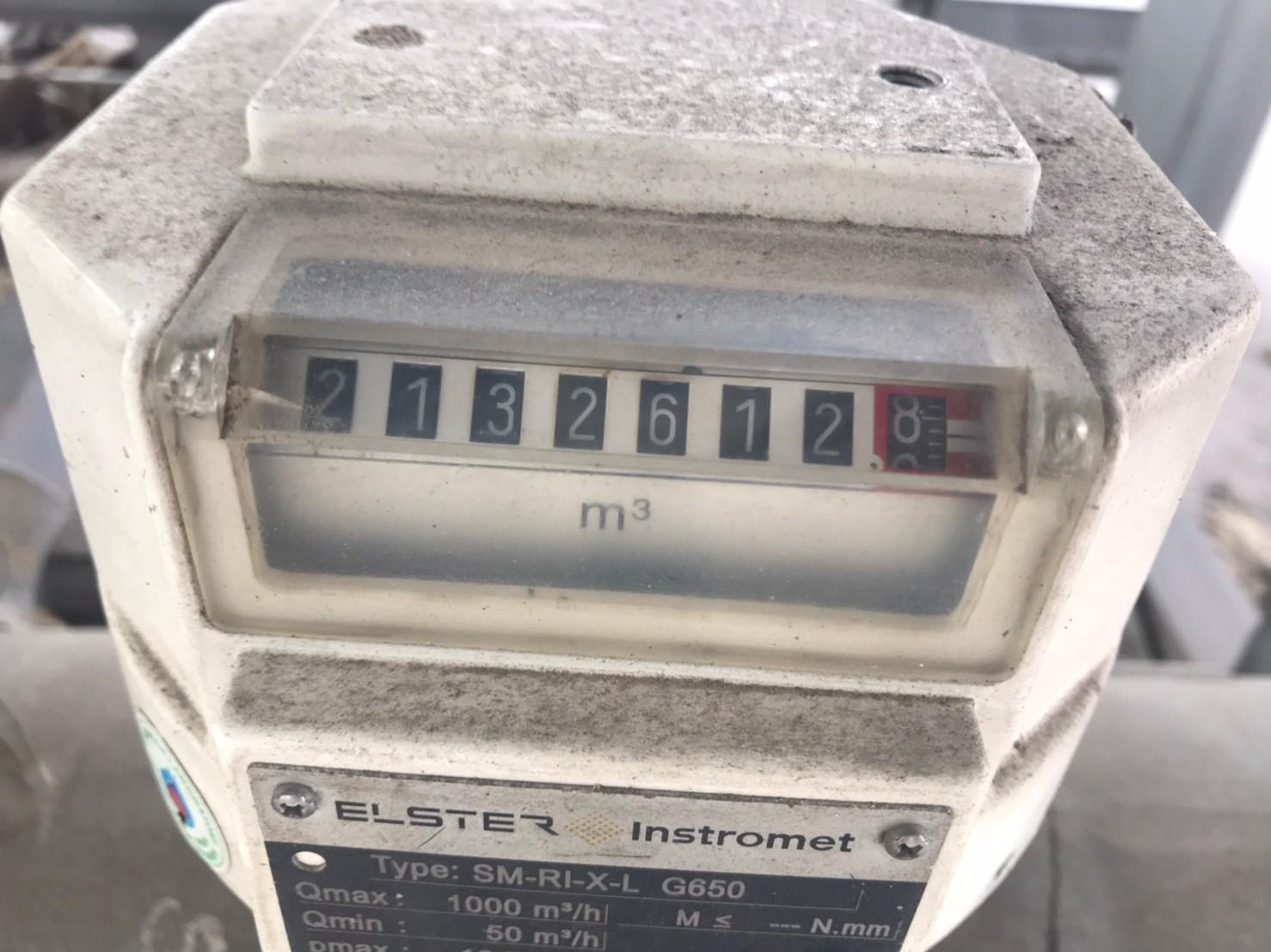analog_dial: (254, 334, 1005, 480)
